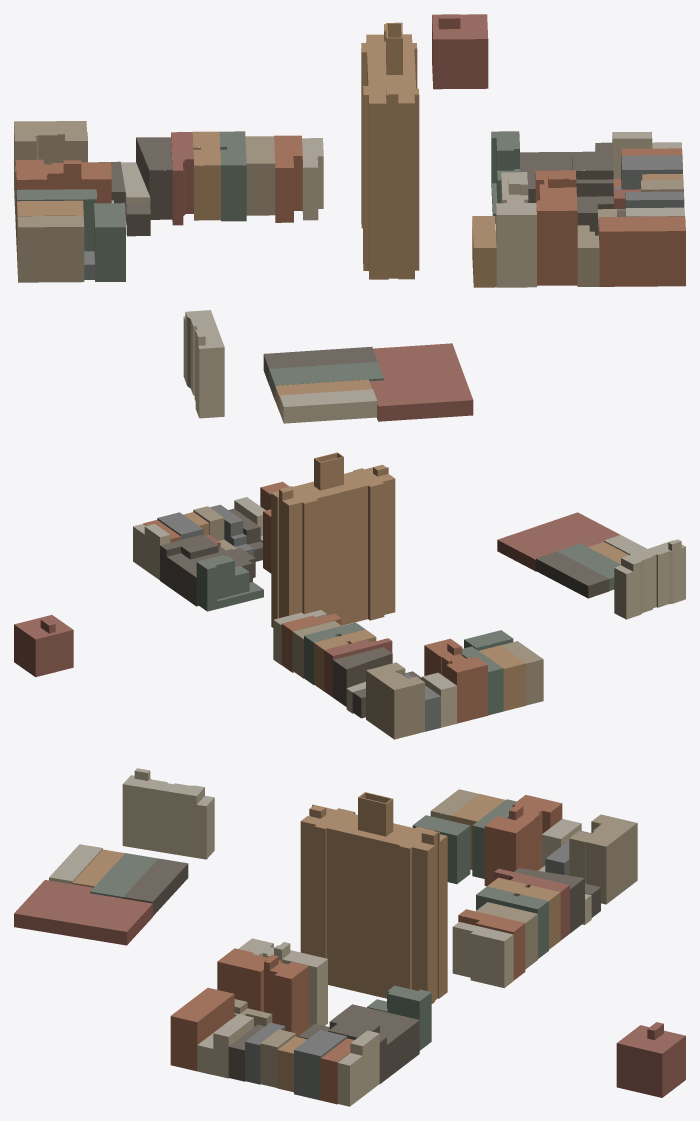
Rendered from tile-4_4.glb.
The picture shows the model from 3 angles, top to bottom: view 1: azimuth 30°, elevation 25°; view 2: azimuth 150°, elevation 25°; view 3: azimuth 270°, elevation 25°; orthographic projection. The views are drawn at different scales.
Parts seen in each view (by area): view 1: wall, roof; view 2: wall, roof; view 3: wall, roof.
Part boxes in pixels (x1,y1,x2,y2): wall: (14,16,685,423); roof: (14,14,685,406); wall: (14,453,685,739); roof: (14,452,685,700); wall: (14,771,685,1106); roof: (14,768,685,1065).
Bounding box in the file's own units: 196 × 66.26 × 211.
